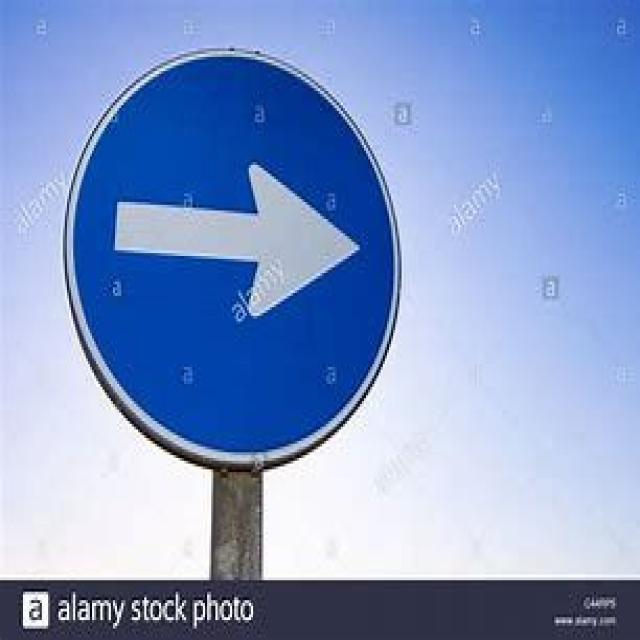COMPULSARY_TURN_RIGHT: (59, 42, 404, 474)
